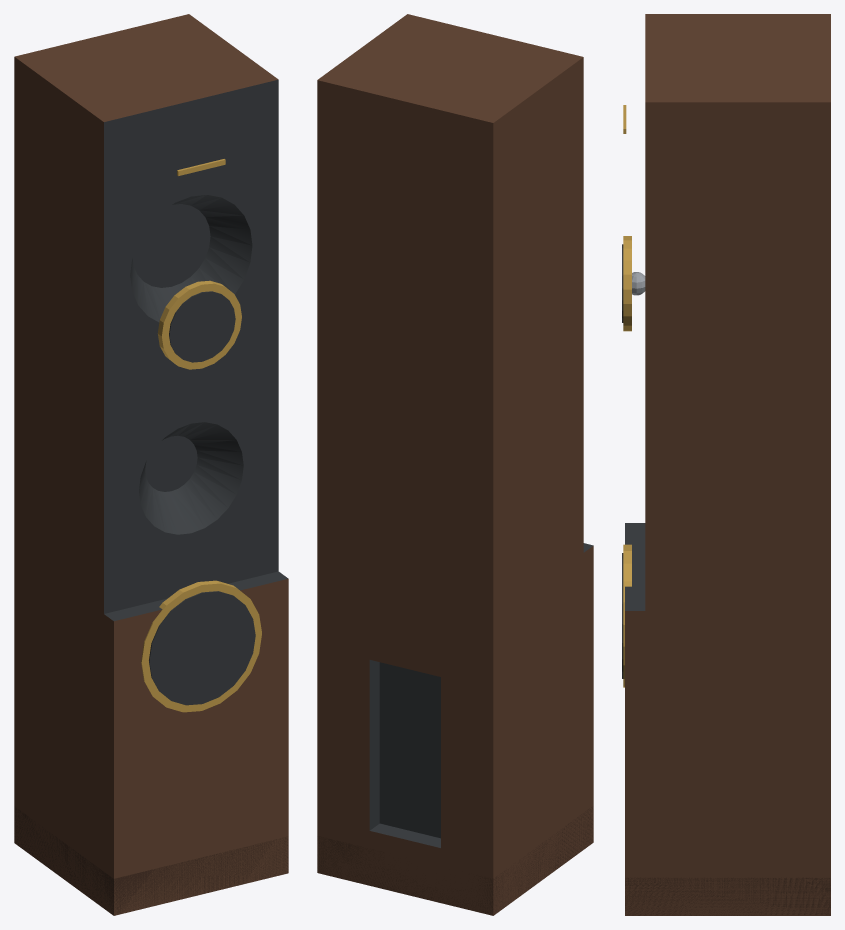
File: speaker.glb
3 renders of one model, left to right at view 1: azimuth 30°, elevation 25°; view 2: azimuth 150°, elevation 25°; view 3: azimuth 270°, elevation 25°, orthographic. The views are drawn at different scales.
Visible parts, largest first — view 1: speaker(Clone); view 2: speaker(Clone); view 3: speaker(Clone).
Part boxes in pixels (x1=…): speaker(Clone): x1=14, y1=14, x2=288, y2=915; speaker(Clone): x1=317, y1=14, x2=593, y2=915; speaker(Clone): x1=622, y1=14, x2=830, y2=915.
Size of the model in its own units: 0.148 by 0.6364 by 0.148.
